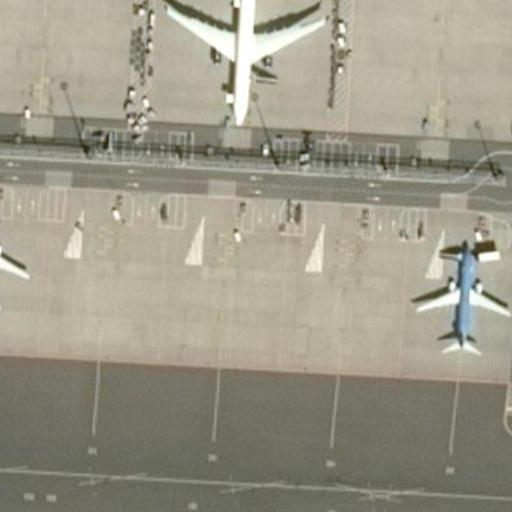Aircraft: (159, 0, 323, 125), (410, 234, 511, 360), (0, 206, 32, 314)
